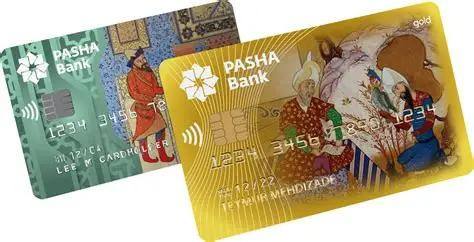Pasha Bank: (176, 61, 219, 103), (15, 51, 51, 86)
